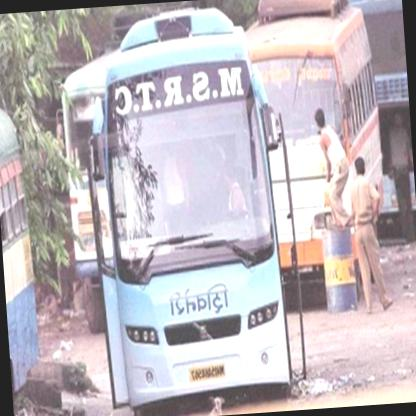bus: (42, 2, 281, 415), (223, 0, 387, 306)
